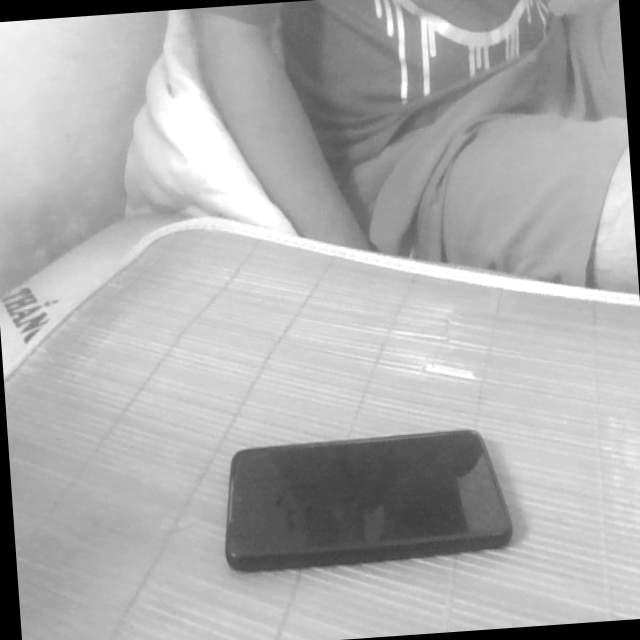phone: (202, 400, 532, 584)
